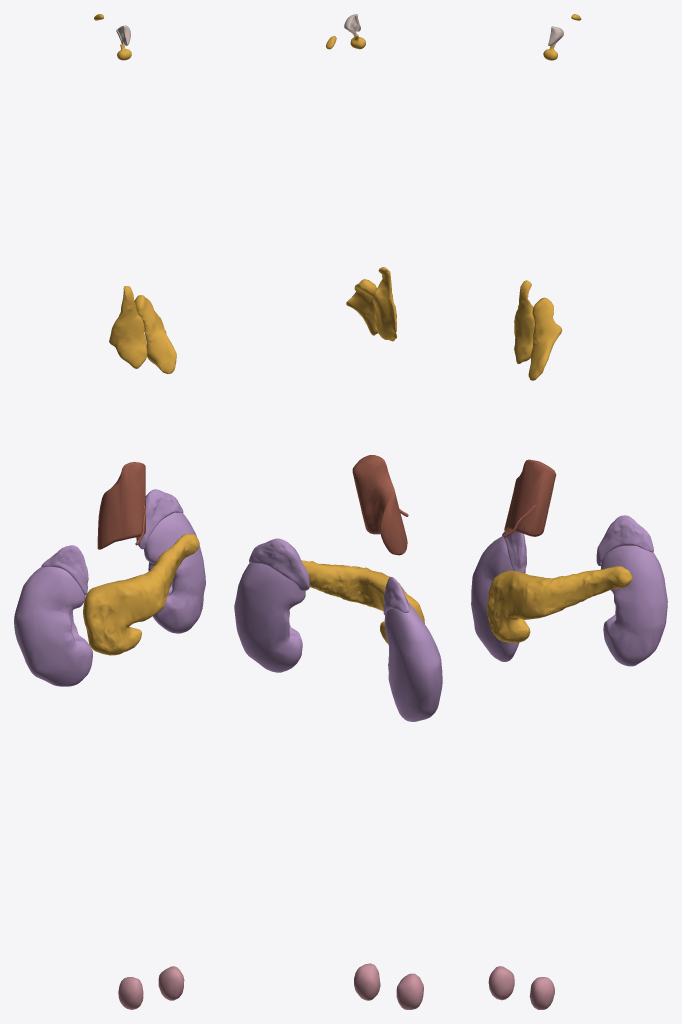
The model's file is endokrin.glb.
3 views of the same model, side by side, from view 1: azimuth 30°, elevation 25°; view 2: azimuth 150°, elevation 25°; view 3: azimuth 330°, elevation 25° (orthographic). The views are drawn at different scales.
Parts seen in each view (by area): view 1: Right kidney, Pancreas, Left kidney, Caudate lobe of liver, Parenchyma of pancreas, Right lobe of thymus, Left lobe of thymus, Left adrenal gland, Right adrenal gland, Left testis, Right testis; view 2: Left kidney, Right kidney, Caudate lobe of liver, Pancreas, Parenchyma of pancreas, Left adrenal gland, Right lobe of thymus, Left lobe of thymus, Right testis, Left testis, Right adrenal gland; view 3: Left kidney, Pancreas, Parenchyma of pancreas, Caudate lobe of liver, Right kidney, Left lobe of thymus, Left adrenal gland, Right lobe of thymus, Right adrenal gland, Right testis, Left testis.
Boxes of the visible parts, box(x1,y1,x2,y2) form: Right kidney: box(14, 566, 92, 686); Pancreas: box(83, 533, 199, 655); Left kidney: box(144, 512, 205, 633); Caudate lobe of liver: box(97, 462, 145, 549); Parenchyma of pancreas: box(83, 534, 198, 655); Right lobe of thymus: box(109, 286, 147, 368); Left lobe of thymus: box(134, 295, 176, 373); Left adrenal gland: box(136, 489, 183, 549); Right adrenal gland: box(41, 545, 88, 595); Left testis: box(158, 966, 184, 1000); Right testis: box(118, 977, 143, 1009); Left kidney: box(234, 563, 305, 672); Right kidney: box(384, 603, 442, 721); Caudate lobe of liver: box(352, 455, 407, 555); Pancreas: box(301, 560, 424, 643); Parenchyma of pancreas: box(306, 561, 424, 641); Left adrenal gland: box(249, 538, 309, 590); Right lobe of thymus: box(372, 267, 396, 341); Left lobe of thymus: box(346, 279, 377, 335); Right testis: box(396, 973, 423, 1009); Left testis: box(354, 963, 380, 1000); Right adrenal gland: box(383, 577, 409, 615); Left kidney: box(600, 545, 667, 666); Pancreas: box(487, 566, 632, 642); Parenchyma of pancreas: box(487, 566, 631, 642); Caudate lobe of liver: box(504, 459, 556, 536); Right kidney: box(471, 536, 525, 661); Left lobe of thymus: box(528, 297, 562, 380); Left adrenal gland: box(596, 515, 653, 565); Right lobe of thymus: box(514, 280, 534, 363); Right adrenal gland: box(502, 531, 526, 572); Right testis: box(488, 966, 514, 1000); Left testis: box(529, 977, 554, 1009).
Bounding box in the file's own units: 0.4127 × 2 × 0.242.
